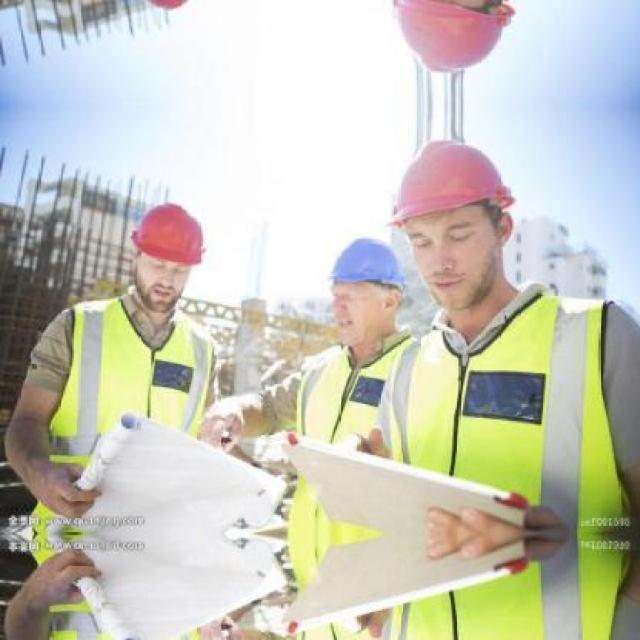helmet: (382, 134, 524, 241), (119, 197, 212, 273), (323, 234, 411, 306)
